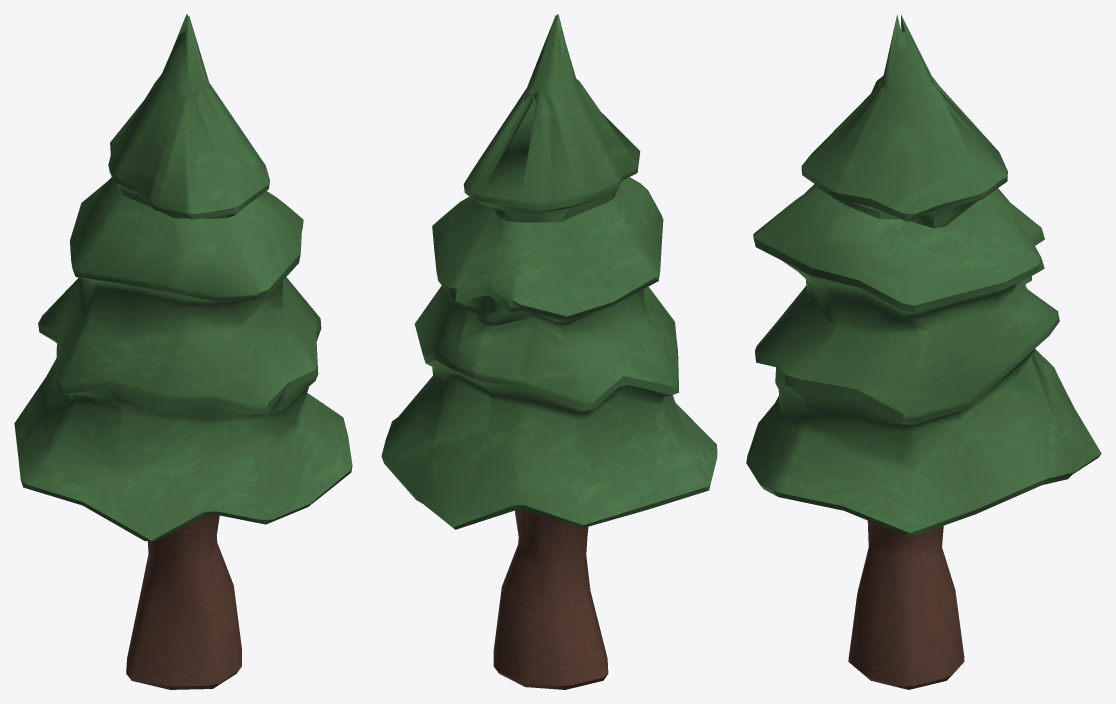
Rendered from Saplin1.fbx.
3 renders of one model, left to right at view 1: azimuth 30°, elevation 25°; view 2: azimuth 150°, elevation 25°; view 3: azimuth 270°, elevation 25°, orthographic.
Visible parts, largest first — view 1: Object001; view 2: Object001; view 3: Object001.
Boxes of the visible parts, left/top/right/bottom form: Object001: left=14, top=14, right=352, bottom=689; Object001: left=381, top=14, right=717, bottom=689; Object001: left=746, top=15, right=1101, bottom=689.
Bounding box in the file's own units: 58.61 × 115 × 56.95.
1 material, 1 textured.
